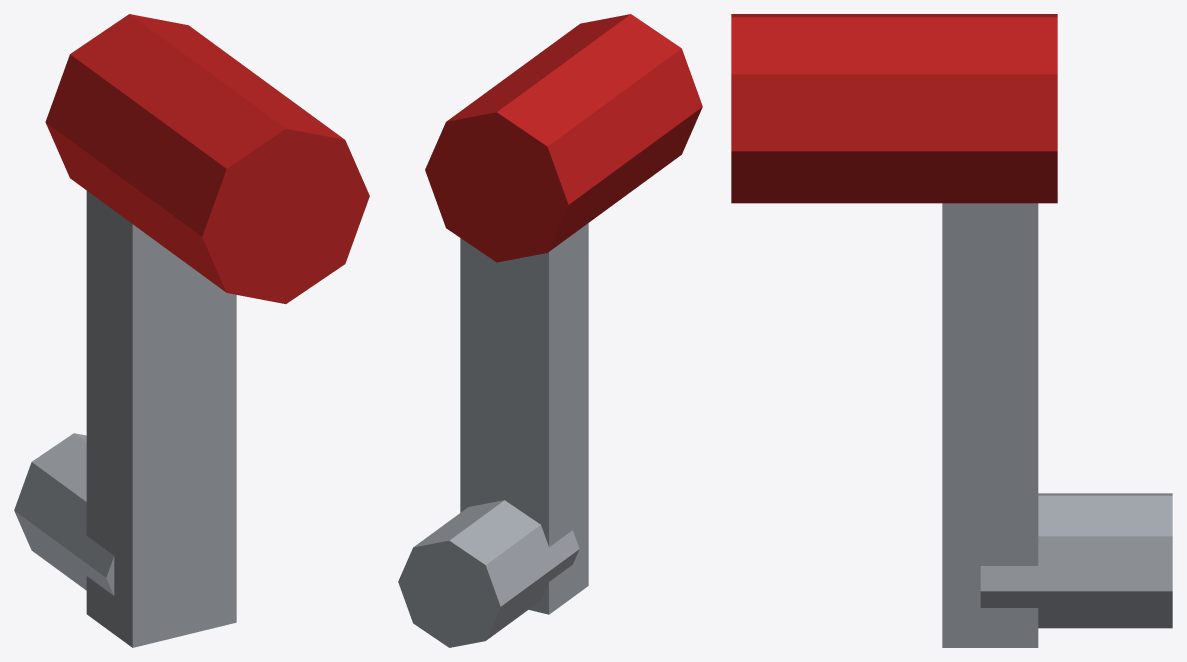
File: crank.fbx
The picture shows the model from 3 angles, left to right: view 1: azimuth 30°, elevation 25°; view 2: azimuth 150°, elevation 25°; view 3: azimuth 270°, elevation 25°; orthographic projection. The views are drawn at different scales.
Parts seen in each view (by area): view 1: crank; view 2: crank; view 3: crank.
Boxes of the visible parts, x1,y1,x2,y2 form: crank: (14, 14, 369, 647); crank: (398, 14, 702, 647); crank: (731, 14, 1172, 647).
Size of the model in its own units: 0.21 by 0.7 by 0.46.
